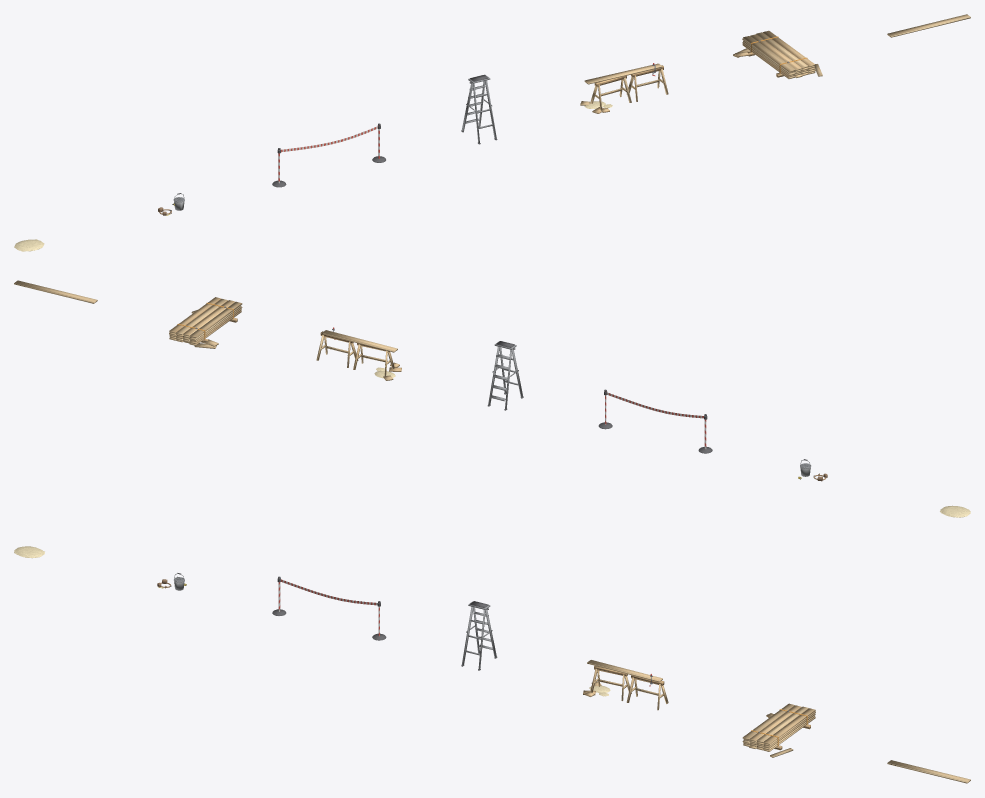
Rendered from Works_BancaKit.fbx.
3 renders of one model, top to bottom at view 1: azimuth 30°, elevation 25°; view 2: azimuth 150°, elevation 25°; view 3: azimuth 330°, elevation 25°, orthographic.
Parts seen in each view (by area): view 1: Prop_PlankStackV2, Prop_SawStation, Prop_StepLadder, Prop_TapeBarrier; view 2: Prop_PlankStackV2, Prop_SawStation, Prop_StepLadder, Prop_TapeBarrier; view 3: Prop_PlankStackV2, Prop_SawStation, Prop_StepLadder, Prop_TapeBarrier.
Boxes of the visible parts, bbox=[...] form: Prop_PlankStackV2: bbox=[733, 30, 822, 78]; Prop_SawStation: bbox=[580, 63, 668, 113]; Prop_StepLadder: bbox=[461, 74, 497, 144]; Prop_TapeBarrier: bbox=[272, 123, 385, 187]; Prop_PlankStackV2: bbox=[169, 297, 242, 348]; Prop_SawStation: bbox=[316, 327, 401, 380]; Prop_StepLadder: bbox=[487, 341, 523, 410]; Prop_TapeBarrier: bbox=[598, 389, 712, 453]; Prop_PlankStackV2: bbox=[742, 703, 815, 757]; Prop_SawStation: bbox=[583, 660, 668, 710]; Prop_StepLadder: bbox=[461, 601, 497, 670]; Prop_TapeBarrier: bbox=[272, 576, 386, 640].
Size of the model in its own units: 28.6 by 1.71 by 2.53.
1 material, 1 textured.
